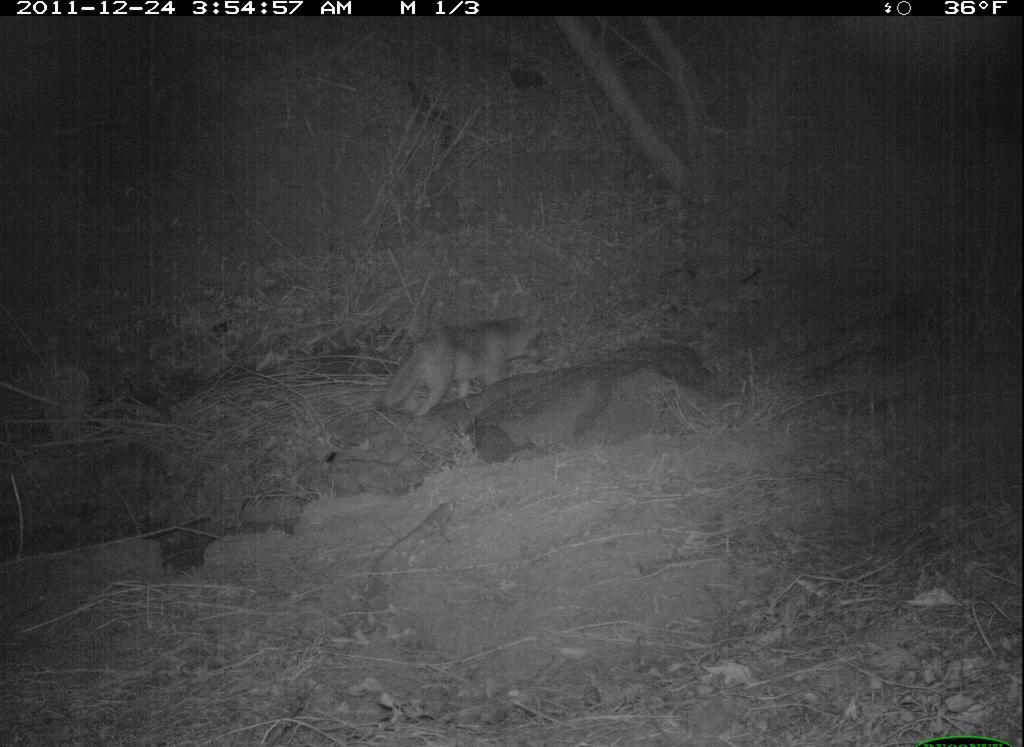coyote: (381, 308, 555, 420)
